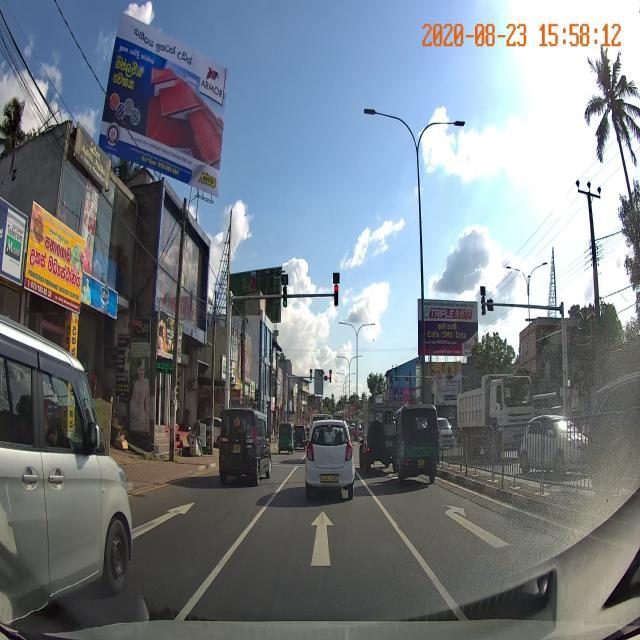forward: (211, 505, 425, 567)
right: (382, 491, 585, 580)
